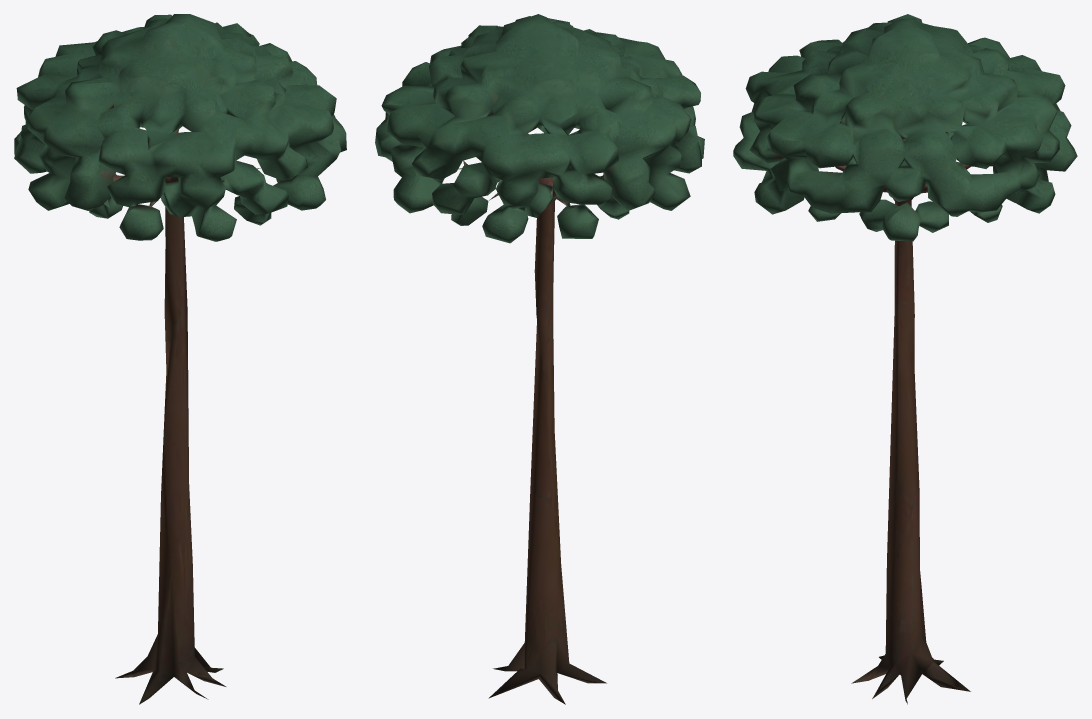
File: tree-pine-a.glb
3 renders of one model, left to right at view 1: azimuth 30°, elevation 25°; view 2: azimuth 150°, elevation 25°; view 3: azimuth 270°, elevation 25°, orthographic.
Bounding box in the file's own units: 0.8727 × 1.89 × 0.8972.
Materials: 1 (1 with a texture image).
